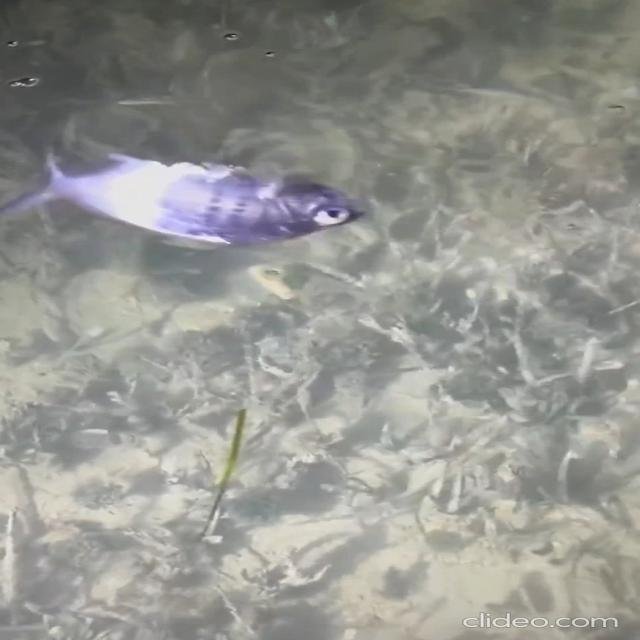fish: (13, 98, 396, 265)
